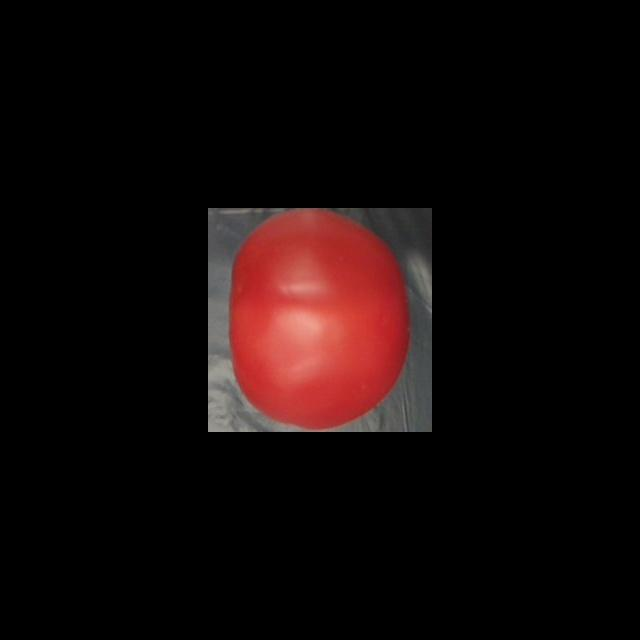tomato: (226, 208, 416, 429)
